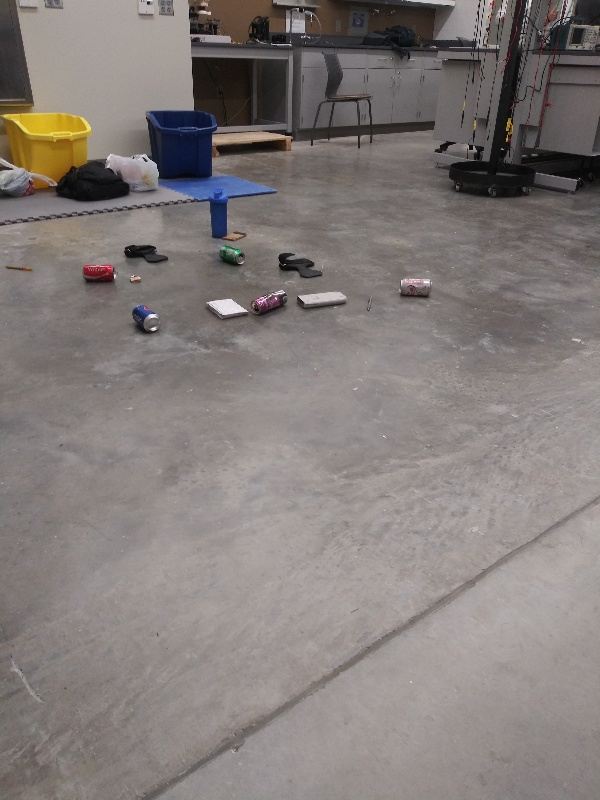can: (247, 288, 291, 317), (129, 300, 162, 336), (395, 273, 437, 298), (80, 261, 119, 283), (214, 244, 248, 269)
